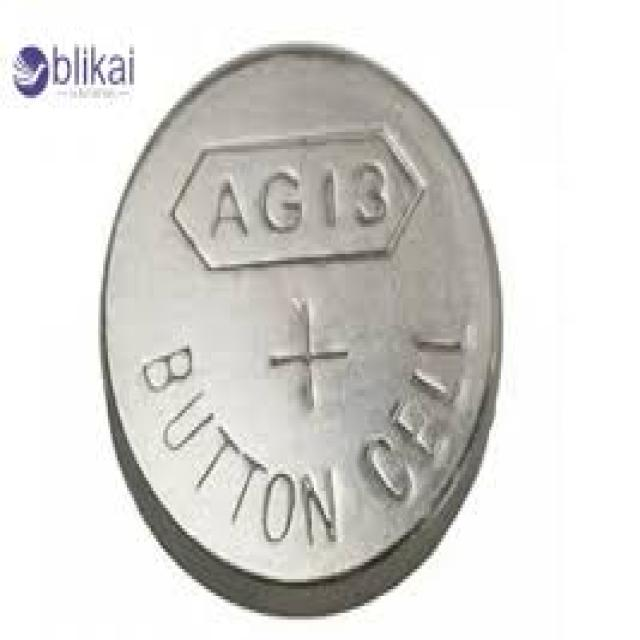battery: (31, 0, 523, 637)
